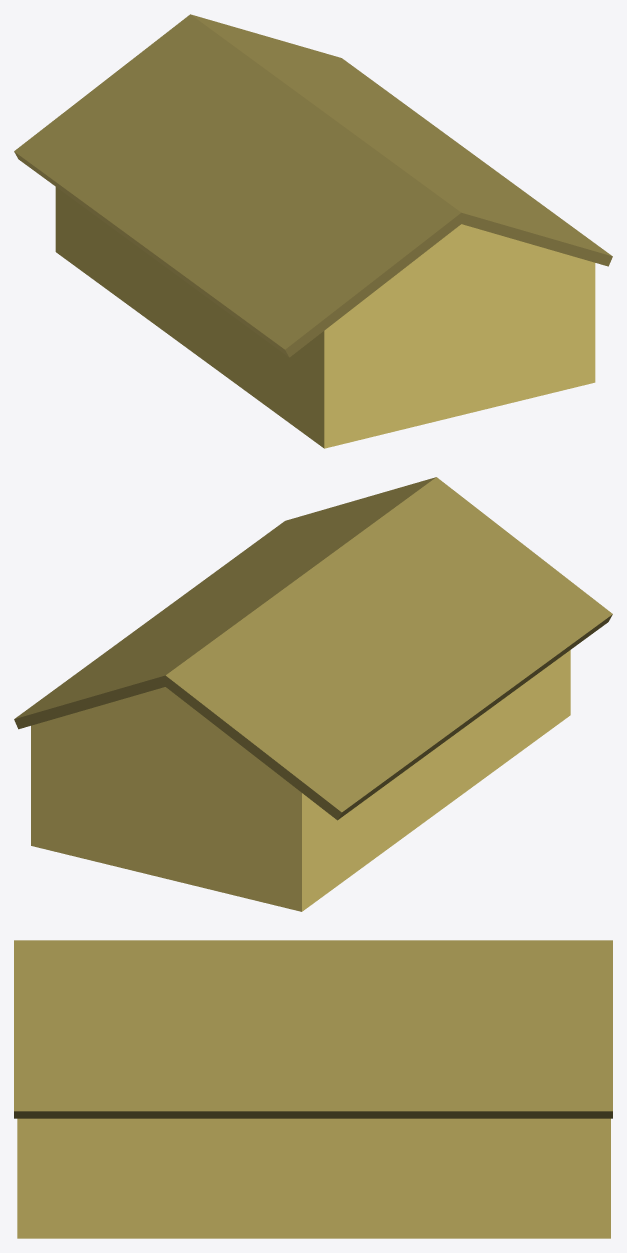
The model's file is result.glb.
3 views of the same model, one above another, from view 1: azimuth 30°, elevation 25°; view 2: azimuth 150°, elevation 25°; view 3: azimuth 270°, elevation 25° (orthographic). The views are drawn at different scales.
Parts seen in each view (by area): view 1: e0b68702-fdb6-4966-81e9-7dbdc80d515a__undefined (×2), 032d39d9-88b8-4145-9d6a-d9cf228a867d__undefined; view 2: e0b68702-fdb6-4966-81e9-7dbdc80d515a__undefined (×2), 032d39d9-88b8-4145-9d6a-d9cf228a867d__undefined; view 3: e0b68702-fdb6-4966-81e9-7dbdc80d515a__undefined, 032d39d9-88b8-4145-9d6a-d9cf228a867d__undefined.
Part boxes in pixels (x1,y1,x2,y2): e0b68702-fdb6-4966-81e9-7dbdc80d515a__undefined (×2): [14, 14, 612, 357]; 032d39d9-88b8-4145-9d6a-d9cf228a867d__undefined: [55, 187, 595, 448]; e0b68702-fdb6-4966-81e9-7dbdc80d515a__undefined (×2): [14, 477, 612, 820]; 032d39d9-88b8-4145-9d6a-d9cf228a867d__undefined: [31, 650, 570, 911]; e0b68702-fdb6-4966-81e9-7dbdc80d515a__undefined: [14, 940, 612, 1118]; 032d39d9-88b8-4145-9d6a-d9cf228a867d__undefined: [17, 1118, 610, 1238].
Size of the model in its own units: 846 by 503 by 1211.
